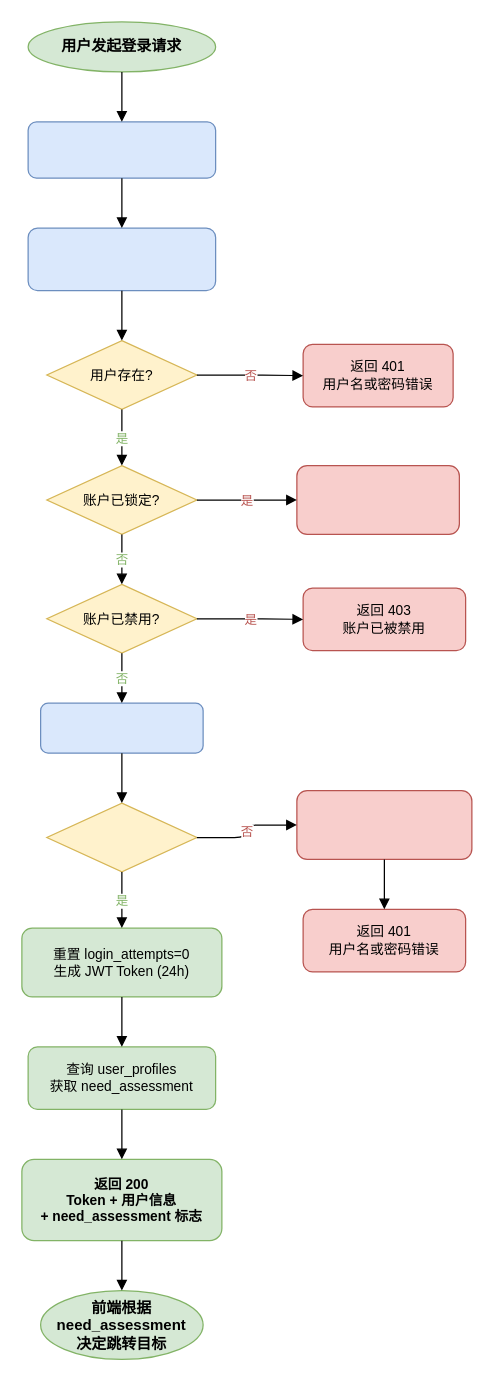
Some shapes in this 494 by 1381 pixel diagram are drawn without their labels. The centre of each missing label's shape, as x and y in pixels:
"bcrypt 验证密码" goes at (121,727).
"login_attempts +1 ≥5 → 锁定15分钟" goes at (384,824).
"密码匹配?" goes at (121,837).
"接收 username + password" goes at (121,149).
"查询 users 表 WHERE username = ?" goes at (121,259).
"返回 423 账户已临时锁定 提示剩余时间" goes at (377,499).
